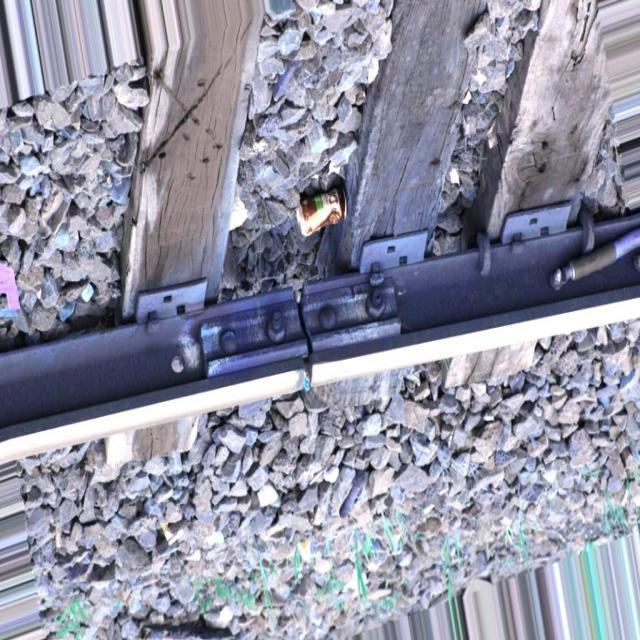Defective Joint: (196, 272, 404, 374)
Missing Dogscrew: (177, 305, 185, 314), (399, 256, 407, 264)
